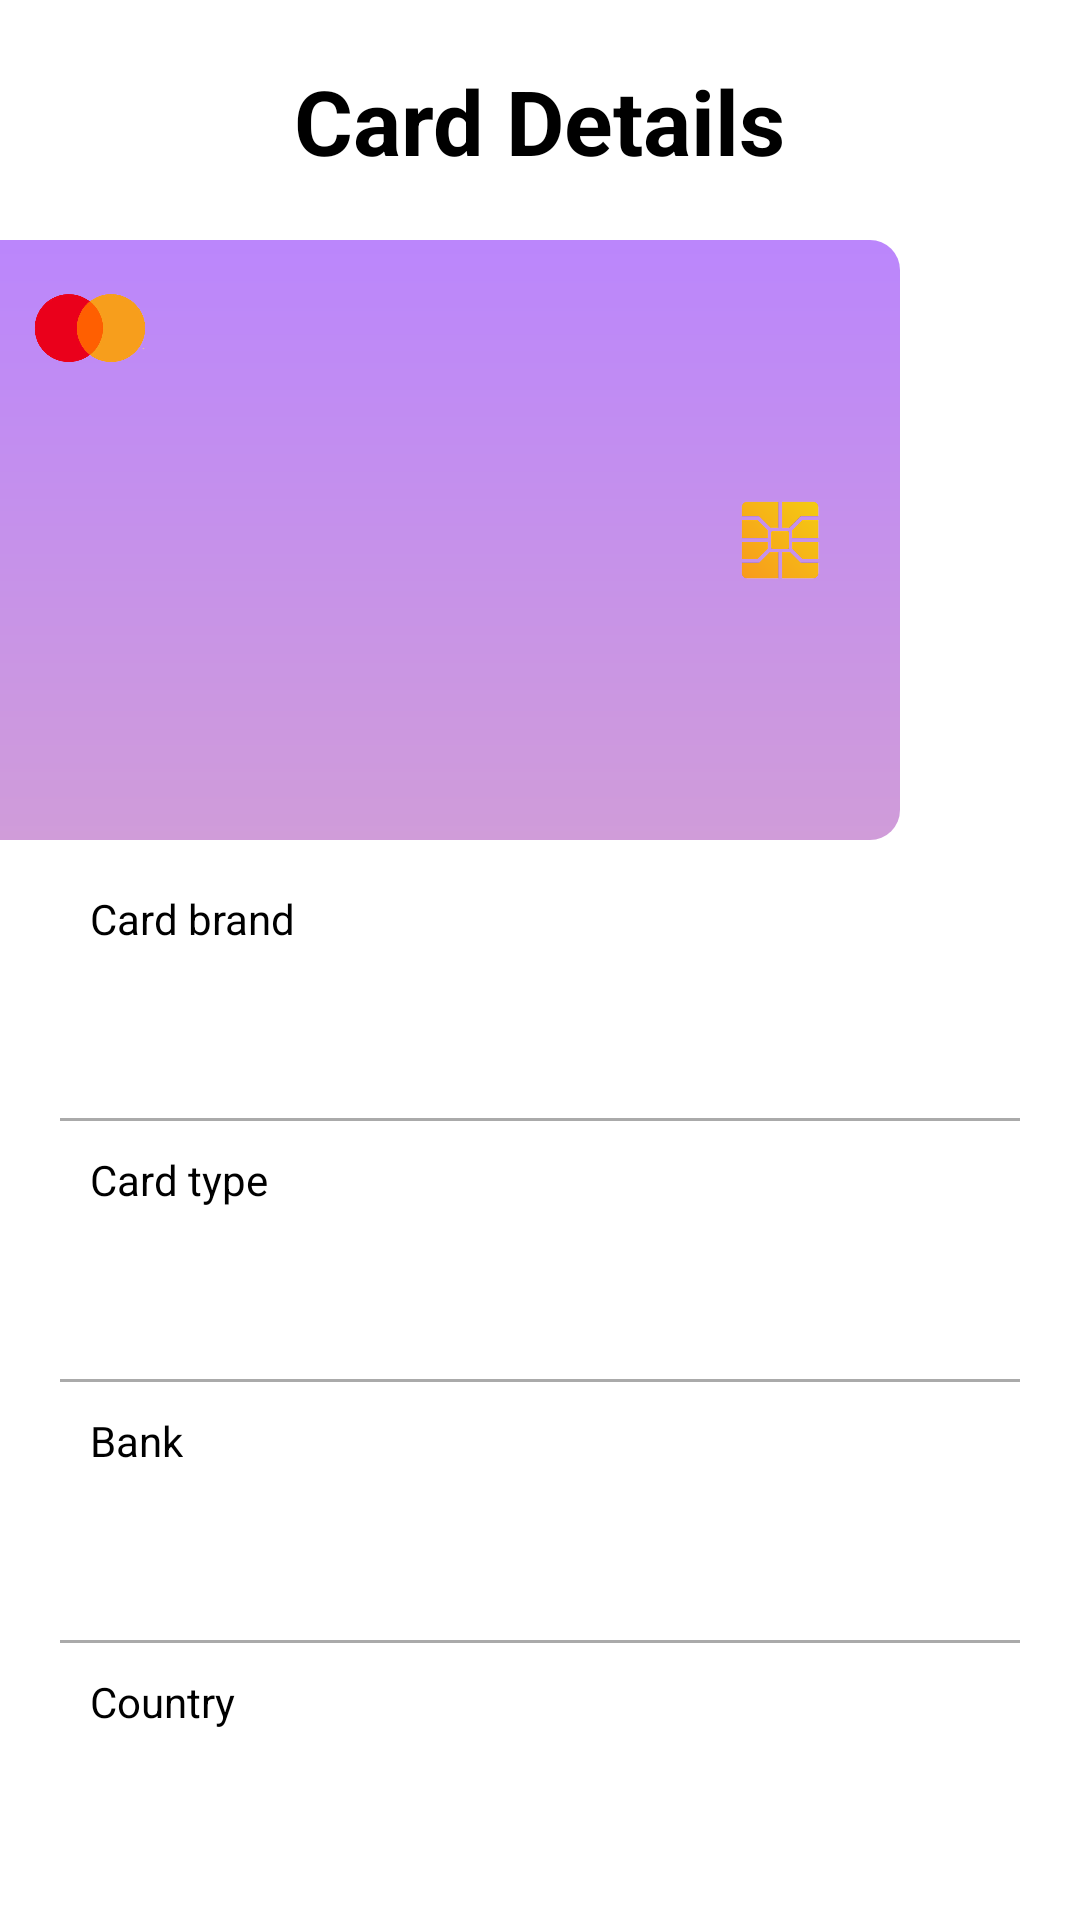

Locate icon controls on the screen. Image size 1080×1920, boxes as box=[x1, y1, x2, y2].
chip: box=[742, 502, 819, 579]
